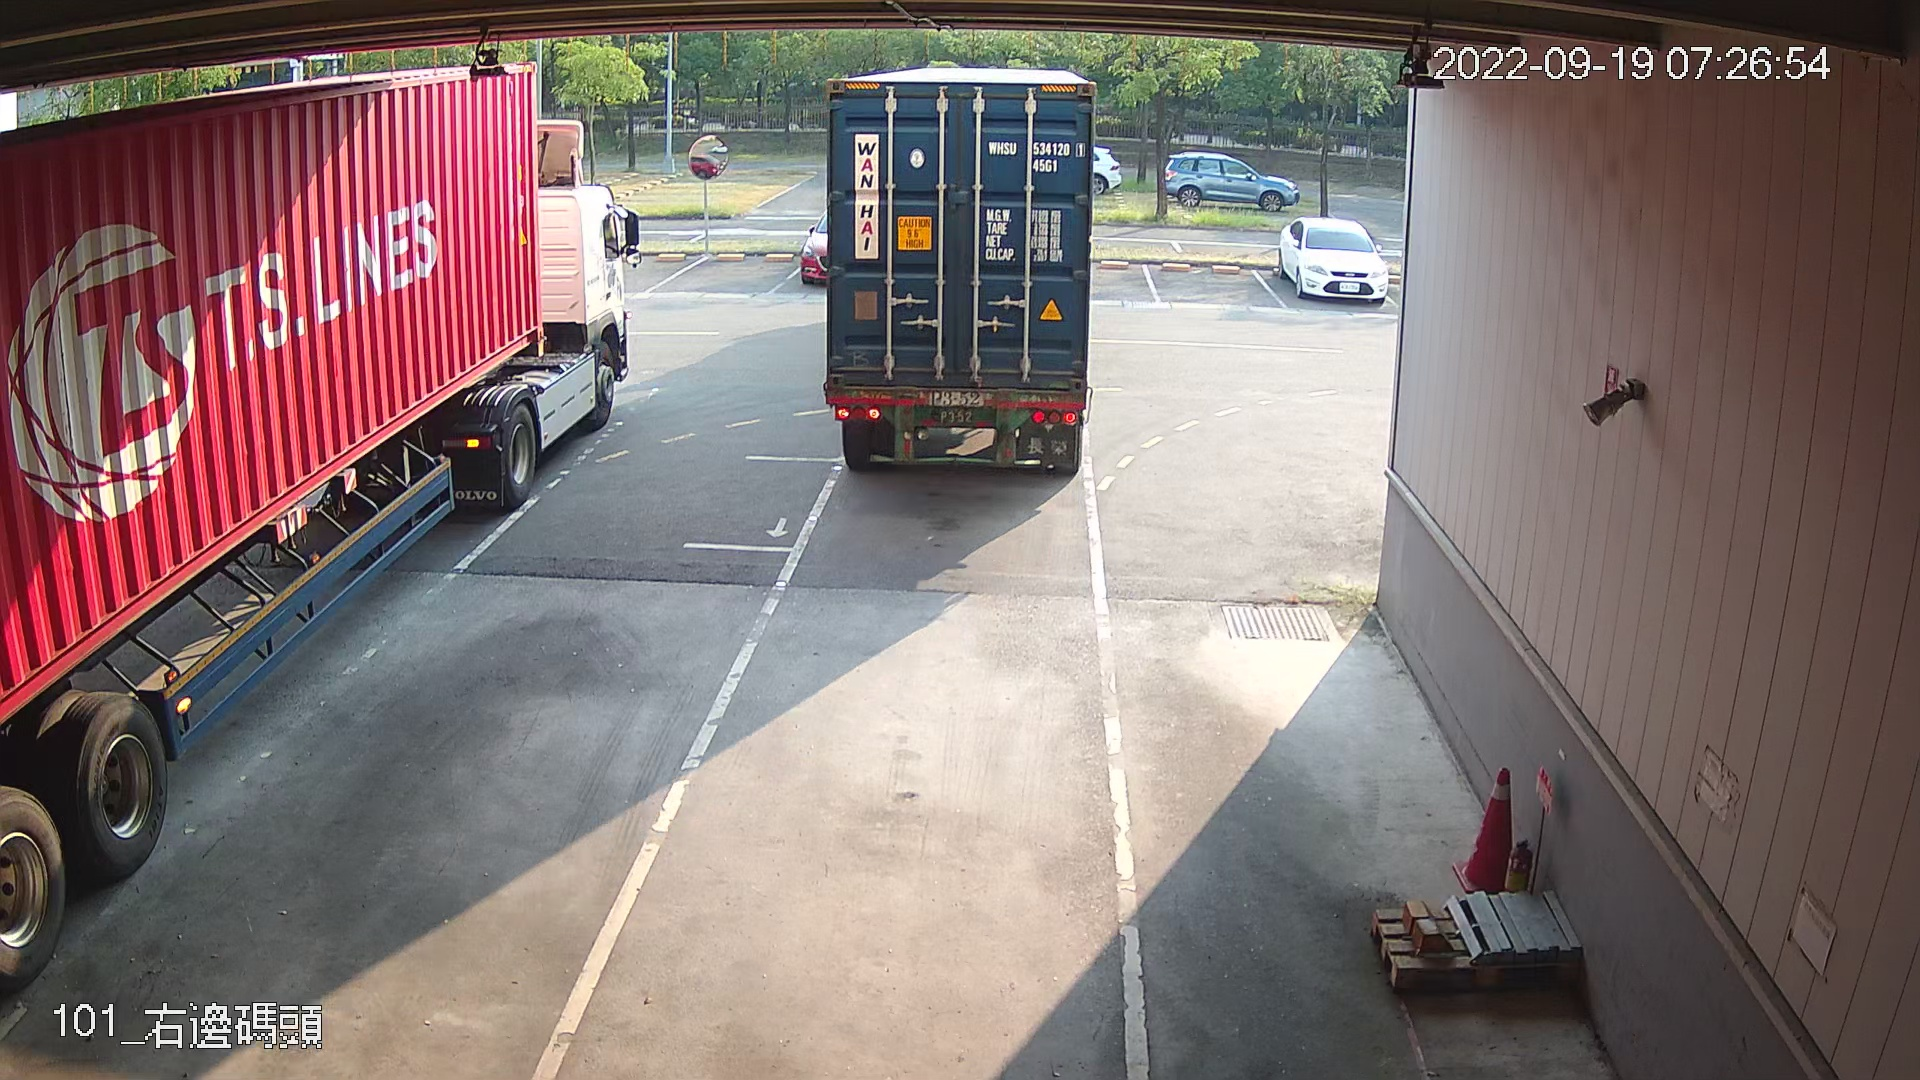container: (982, 133, 1088, 179)
